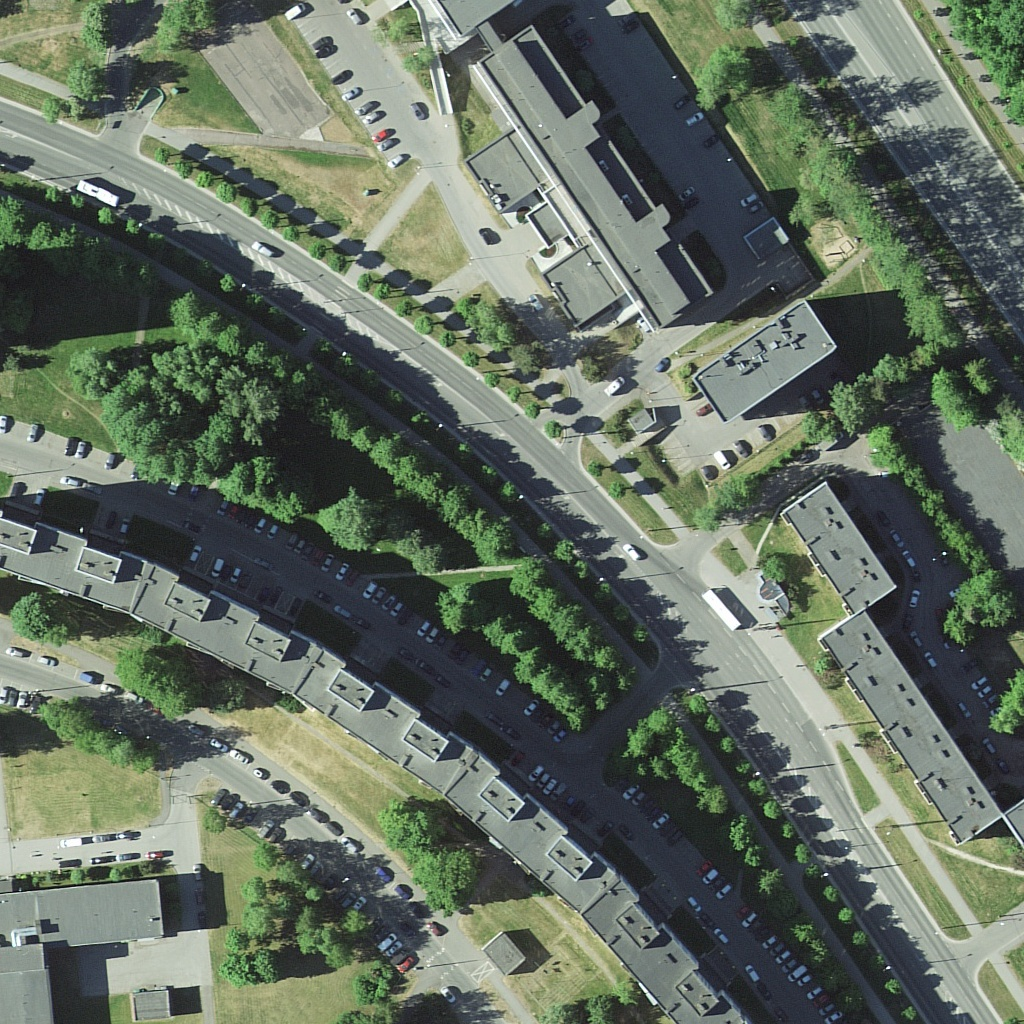building: (477, 31, 721, 328), (823, 605, 1001, 844), (450, 753, 620, 916), (292, 645, 470, 797), (136, 571, 322, 693), (590, 884, 741, 1024), (695, 297, 837, 426), (5, 513, 151, 609), (784, 481, 892, 610), (1, 879, 170, 959)
